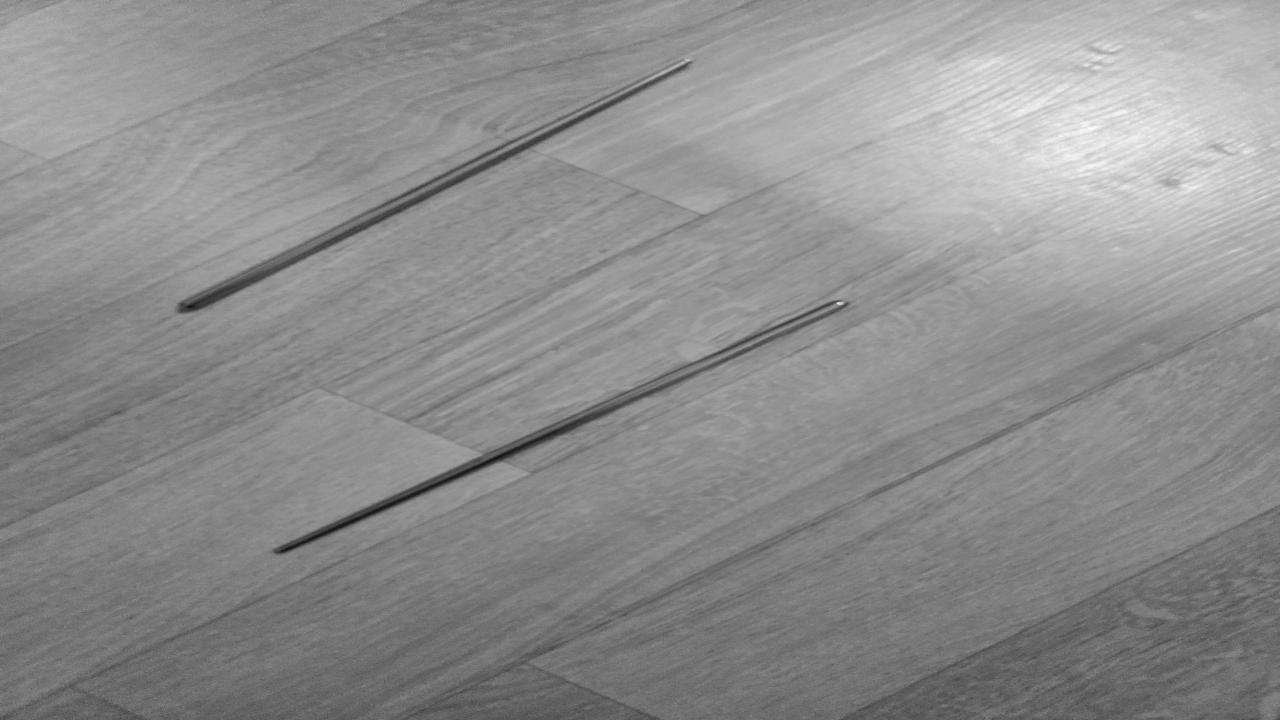chopstick: (256, 294, 860, 560), (168, 53, 701, 314)
